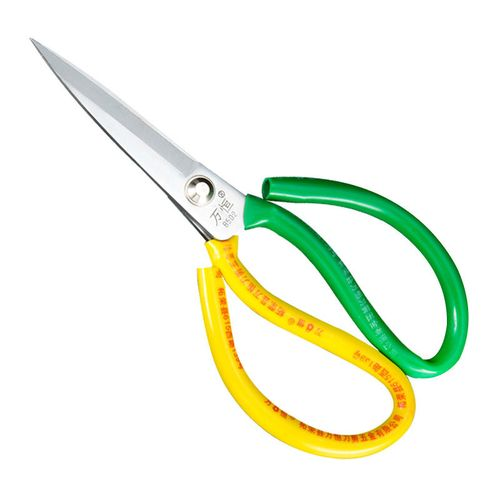scissor: (28, 34, 469, 463)
